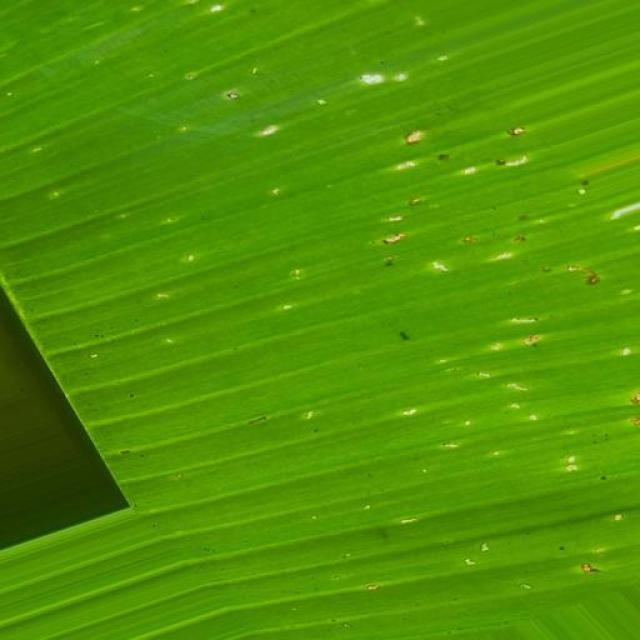Black_rot: (22, 1, 640, 502)
